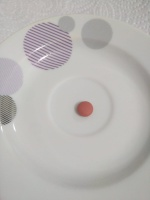Dolorex: (76, 100, 94, 118)
